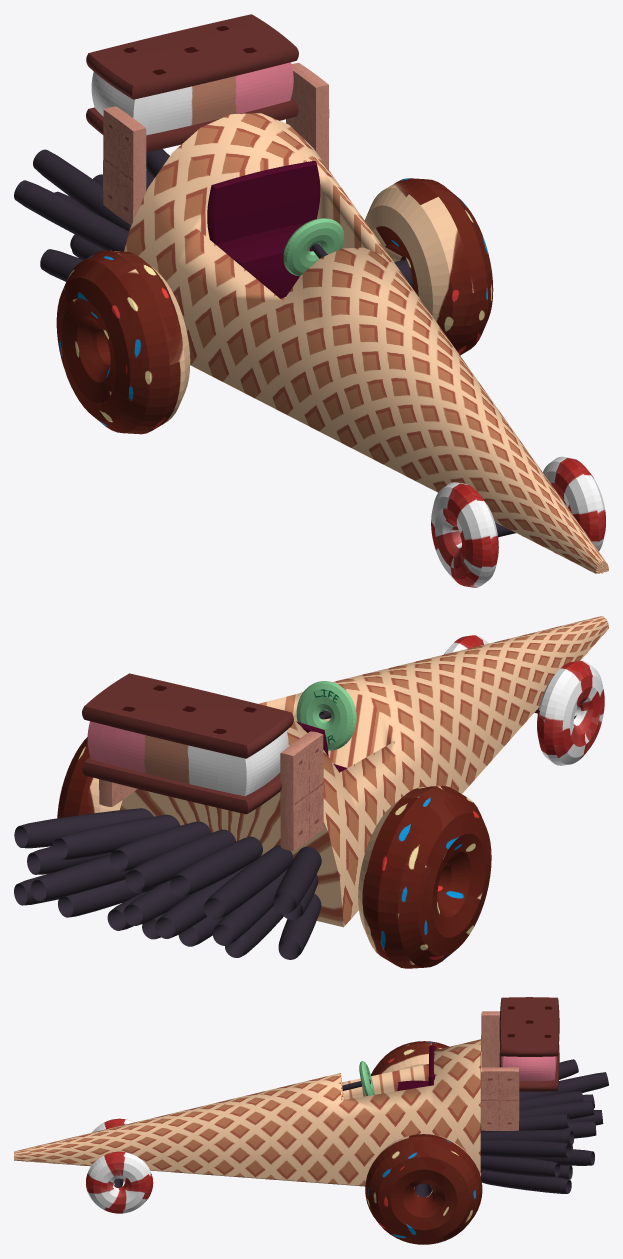
Rendered from DessertCar2.fbx.
The picture shows the model from 3 angles, top to bottom: view 1: azimuth 30°, elevation 25°; view 2: azimuth 150°, elevation 25°; view 3: azimuth 270°, elevation 25°; orthographic projection. The views are drawn at different scales.
Parts seen in each view (by area): view 1: Cone001, BL Wheel, BR Wheel, Cube.002, Torus.001, Cube.001, Cube.005, TL Wheel, Cube.004, Cube.006, TR Wheel, Cube.003 (+2 smaller); view 2: Cone001, Torus.001, BL Wheel, Cube.002, Cube.001, TL Wheel, Cube.004, Cube, Torus.026, BR Wheel, Cube.003; view 3: Cone001, Torus.001, BR Wheel, Cube.002, TR Wheel, Cube.003, BL Wheel, Cube.001, Cube.004, Cube, Torus.026.
Part boxes in pixels (x1,y1,x2,y2): Cone001: [124, 113, 608, 573]; BL Wheel: [56, 250, 190, 434]; BR Wheel: [364, 178, 493, 355]; Cube.002: [86, 14, 298, 99]; Torus.001: [14, 149, 169, 281]; Cube.001: [91, 62, 293, 135]; Cube.005: [207, 161, 320, 244]; TL Wheel: [431, 482, 498, 587]; Cube.004: [103, 106, 146, 225]; Cube.006: [216, 222, 312, 298]; TR Wheel: [542, 456, 605, 551]; Cube.003: [286, 63, 329, 169]; Cone001: [120, 616, 608, 927]; Torus.001: [14, 808, 321, 959]; BL Wheel: [358, 785, 491, 968]; Cube.002: [82, 673, 293, 758]; Cube.001: [87, 721, 288, 796]; TL Wheel: [537, 661, 604, 765]; Cube.004: [280, 731, 323, 850]; Cube: [82, 757, 282, 814]; Torus.026: [296, 681, 356, 750]; BR Wheel: [57, 737, 122, 818]; Cube.003: [99, 779, 137, 806]; Cone001: [14, 1039, 480, 1191]; Torus.001: [480, 1059, 608, 1193]; BR Wheel: [365, 1134, 482, 1244]; Cube.002: [499, 997, 559, 1056]; TR Wheel: [86, 1151, 153, 1213]; Cube.003: [481, 1067, 519, 1130]; BL Wheel: [371, 1041, 448, 1075]; Cube.001: [502, 1056, 556, 1081]; Cube.004: [481, 1011, 499, 1067]; Cube: [499, 1045, 559, 1091]; Torus.026: [359, 1061, 374, 1096].
Bounding box in the file's own units: 226 × 163 × 502.
Materials: 18 (18 with a texture image).
